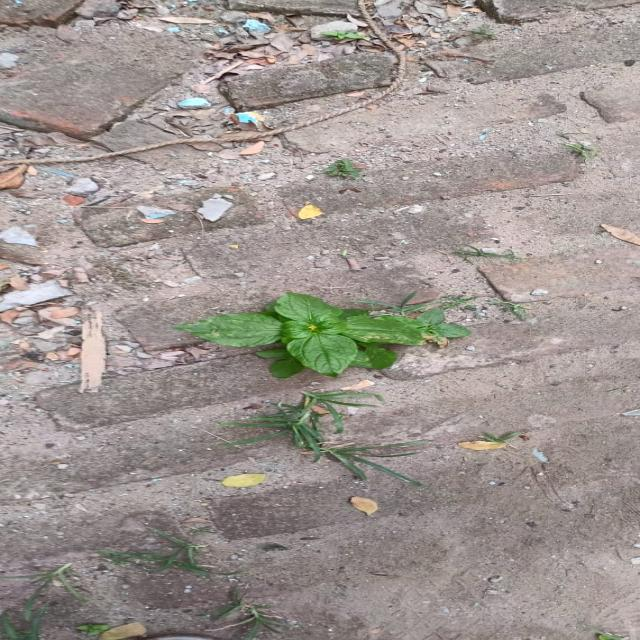plant: (172, 292, 468, 378)
